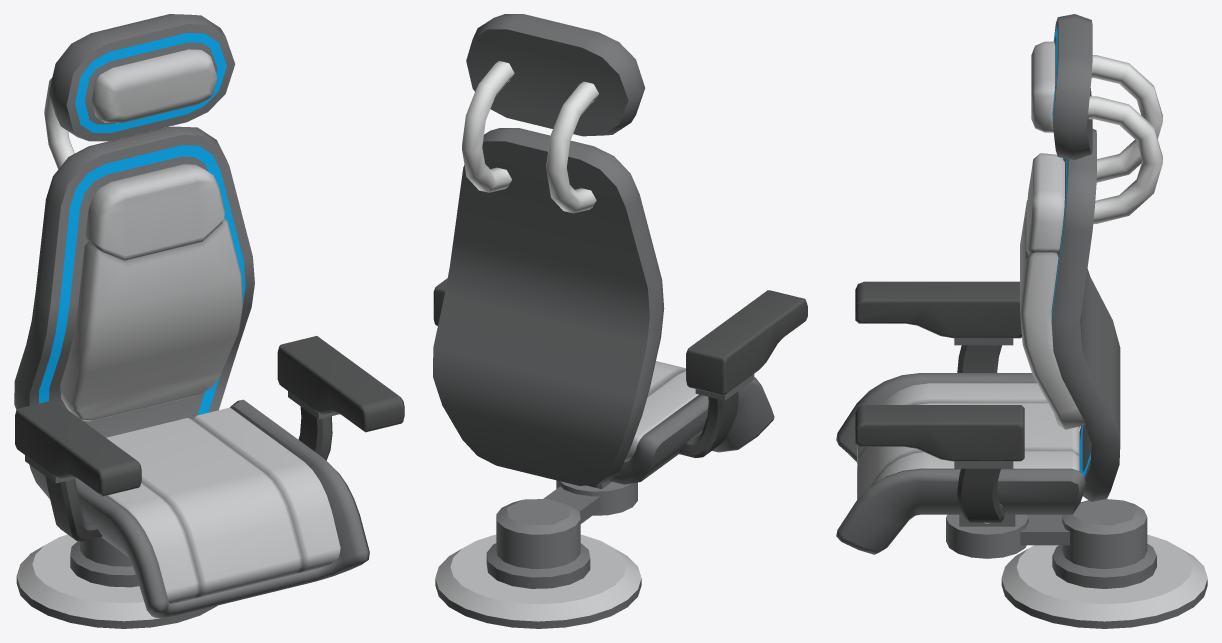
File: Armchair_011.glb
3 renders of one model, left to right at view 1: azimuth 30°, elevation 25°; view 2: azimuth 150°, elevation 25°; view 3: azimuth 270°, elevation 25°, orthographic. The views are drawn at different scales.
Parts seen in each view (by area): view 1: Armchair_011_body_001, Armchair_011; view 2: Armchair_011_body_001, Armchair_011, Armchair_011_leg_001, Circle.048; view 3: Armchair_011_body_001, Armchair_011, Armchair_011_leg_001, Circle.048.
Boxes of the visible parts, left/top/right/bottom form: Armchair_011_body_001: left=14, top=14, right=404, bottom=617; Armchair_011: left=16, top=534, right=217, bottom=628; Armchair_011_body_001: left=433, top=14, right=807, bottom=485; Armchair_011: left=435, top=499, right=641, bottom=628; Armchair_011_leg_001: left=556, top=480, right=637, bottom=515; Circle.048: left=543, top=486, right=600, bottom=523; Armchair_011_body_001: left=836, top=14, right=1162, bottom=554; Armchair_011: left=1001, top=499, right=1207, bottom=628; Armchair_011_leg_001: left=946, top=514, right=1028, bottom=558; Circle.048: left=1020, top=514, right=1069, bottom=545.
Bounding box in the file's own units: 0.9047 × 1.62 × 0.9936.
2 materials, 2 textured.
